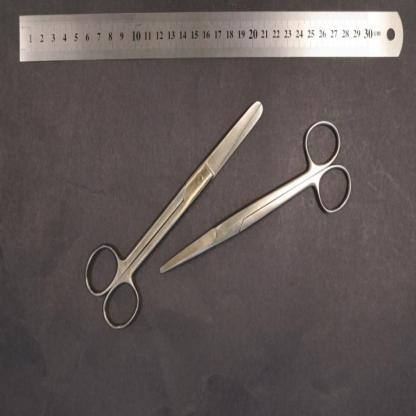Curved Mayo Scissors: (159, 117, 353, 274)
Dressing Scissors: (84, 100, 264, 331)
